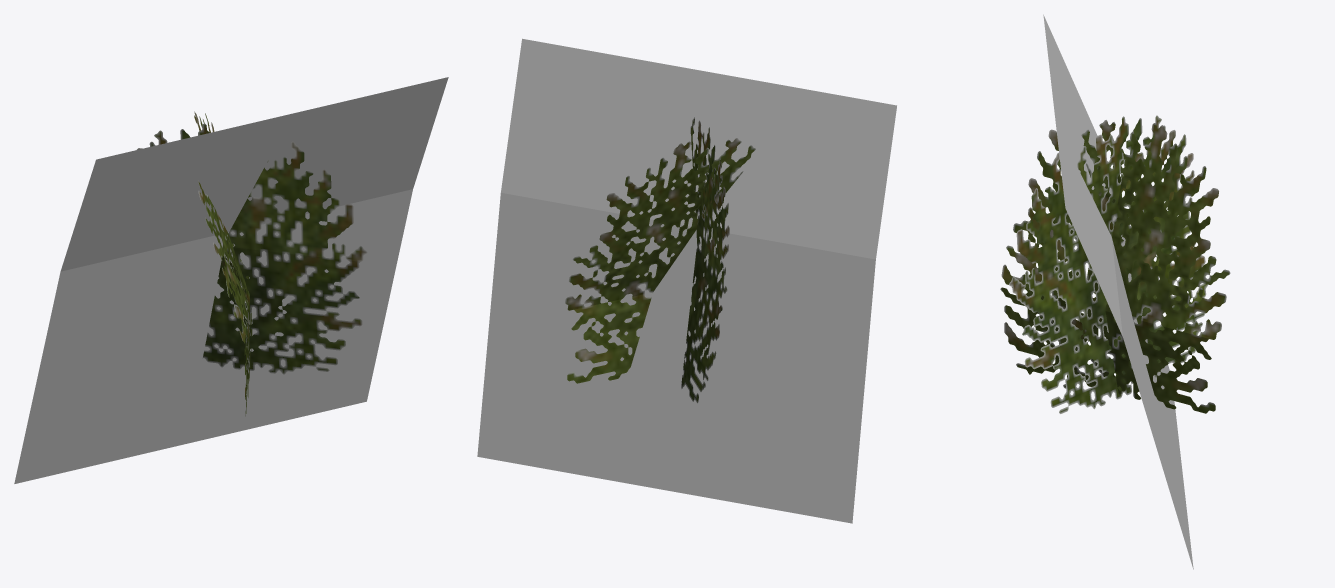
File: myrtle_bush.obj
3 views of the same model, side by side, from view 1: azimuth 30°, elevation 25°; view 2: azimuth 150°, elevation 25°; view 3: azimuth 270°, elevation 25° (orthographic).
Parts seen in each view (by area): view 1: plane; view 2: plane; view 3: plane.
Part boxes in pixels (box(x1,y1,x2,y2)): plane: box(14, 77, 448, 483); plane: box(477, 38, 896, 523); plane: box(1000, 14, 1230, 569).
Size of the model in its own units: 3.02 by 2.97 by 2.66.
